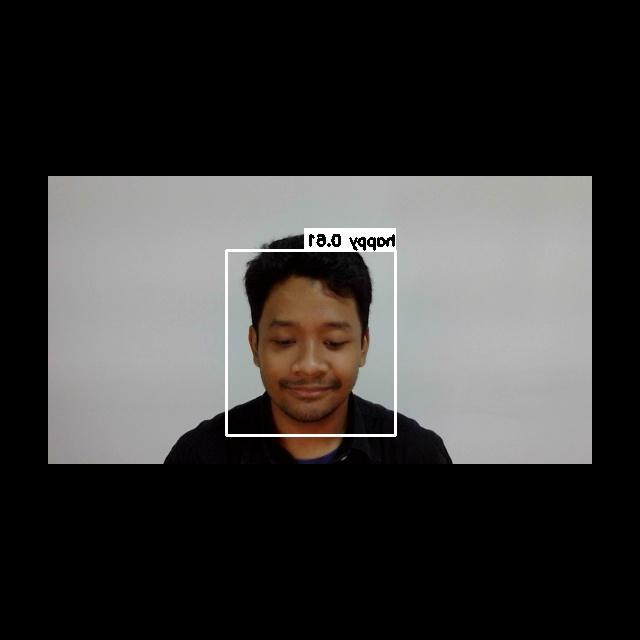Happy: (257, 304, 361, 413)
